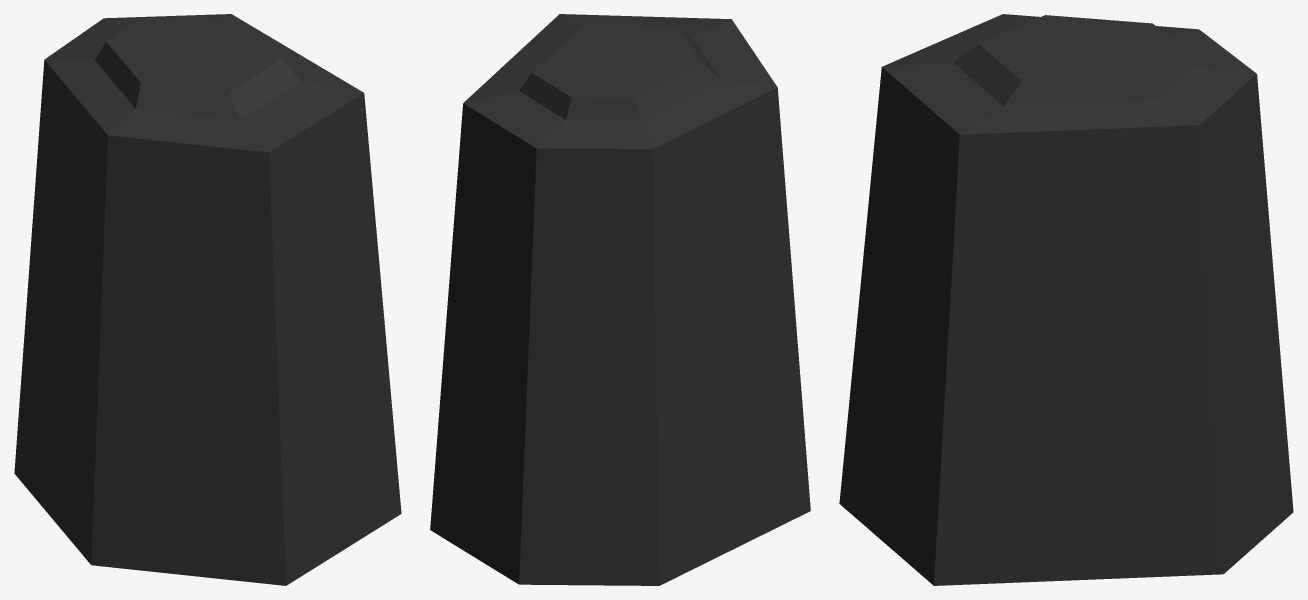
Rendered from RockLarge_2.fbx.
3 renders of one model, left to right at view 1: azimuth 30°, elevation 25°; view 2: azimuth 150°, elevation 25°; view 3: azimuth 270°, elevation 25°, orthographic. The views are drawn at different scales.
Visible parts, largest first — view 1: RockLarge2; view 2: RockLarge2; view 3: RockLarge2.
Boxes of the visible parts, x1,y1,x2,y2 form: RockLarge2: [14, 14, 401, 585]; RockLarge2: [430, 14, 810, 585]; RockLarge2: [839, 14, 1293, 585].
Size of the model in its own units: 448 by 588 by 664.
